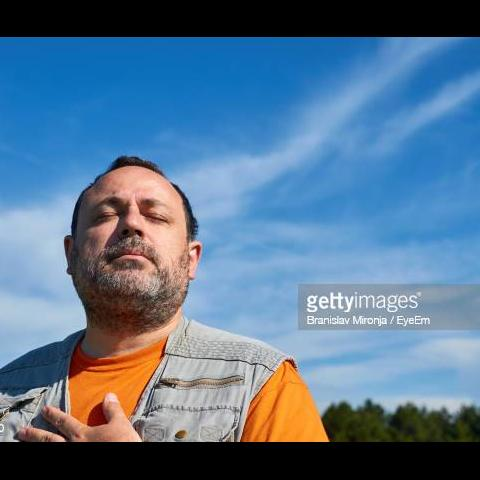closed: (80, 186, 188, 236)
